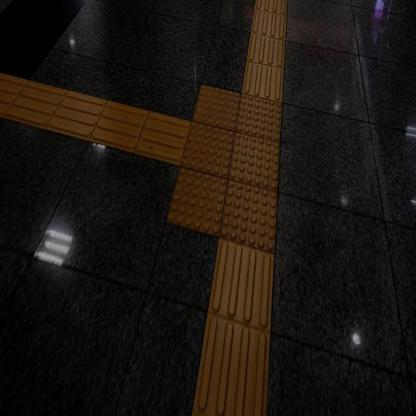podotacti: (155, 58, 315, 283), (0, 68, 179, 166), (186, 255, 277, 415), (242, 0, 291, 95)
